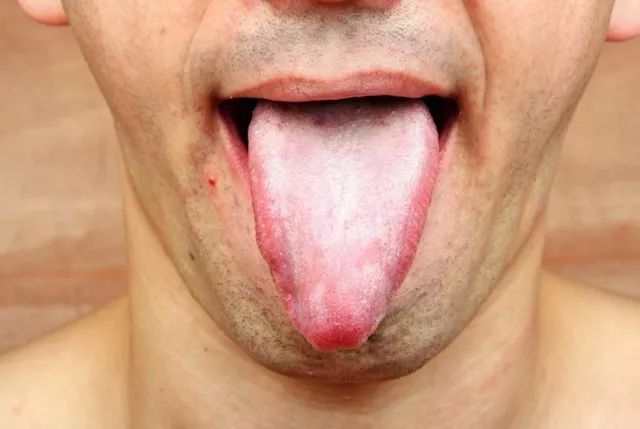baitaishe: (247, 98, 440, 350)
hongshe: (247, 98, 440, 350)
shoushe: (247, 98, 440, 350)
